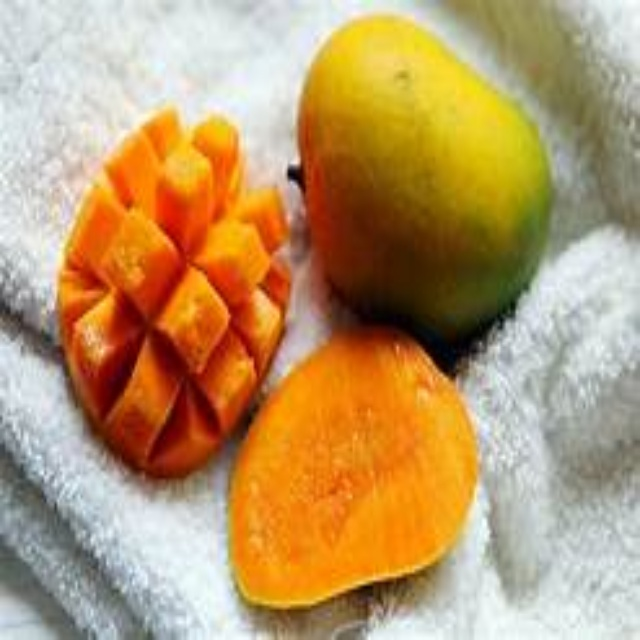mango: (287, 11, 556, 346), (220, 325, 489, 612)
